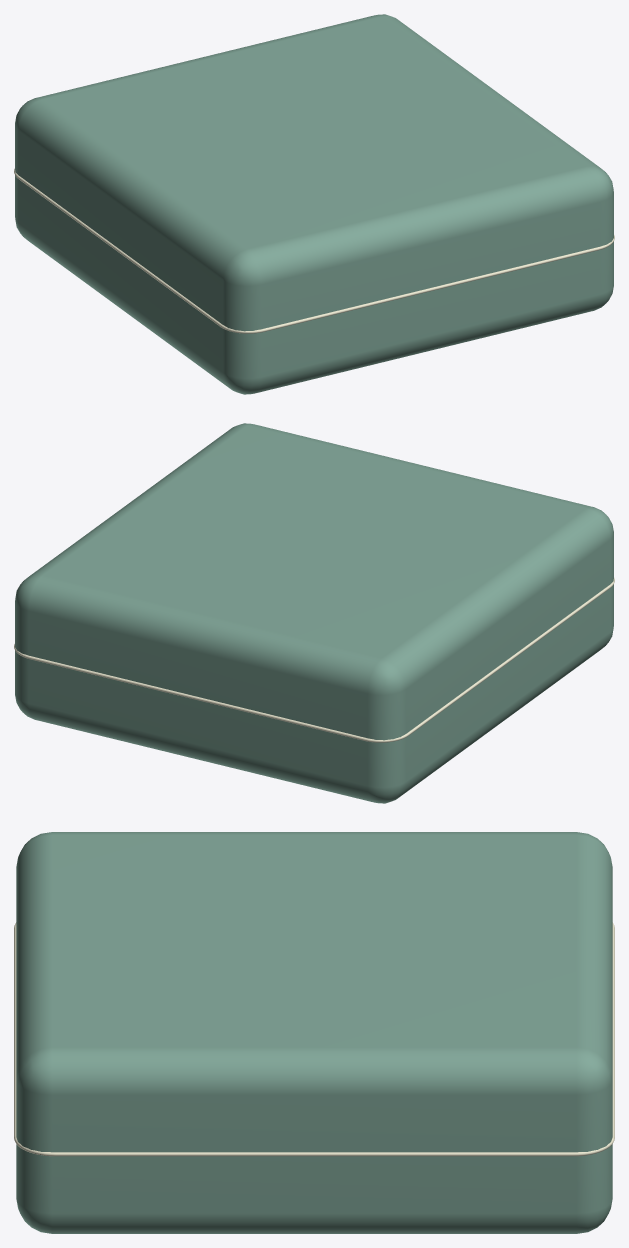
The model's file is desk_booster.glb.
3 views of the same model, one above another, from view 1: azimuth 30°, elevation 25°; view 2: azimuth 150°, elevation 25°; view 3: azimuth 270°, elevation 25° (orthographic). The views are drawn at different scales.
Visible parts, largest first — view 1: Booster cushion, Cream edge piping; view 2: Booster cushion, Cream edge piping; view 3: Booster cushion, Cream edge piping.
Part boxes in pixels (left/top/right/bottom): Booster cushion: left=15, top=14, right=613, bottom=394; Cream edge piping: left=14, top=168, right=614, bottom=333; Booster cushion: left=15, top=423, right=613, bottom=803; Cream edge piping: left=14, top=577, right=614, bottom=742; Booster cushion: left=16, top=832, right=612, bottom=1233; Cream edge piping: left=14, top=922, right=614, bottom=1156.
Size of the model in its own units: 0.514 by 0.18 by 0.534.
